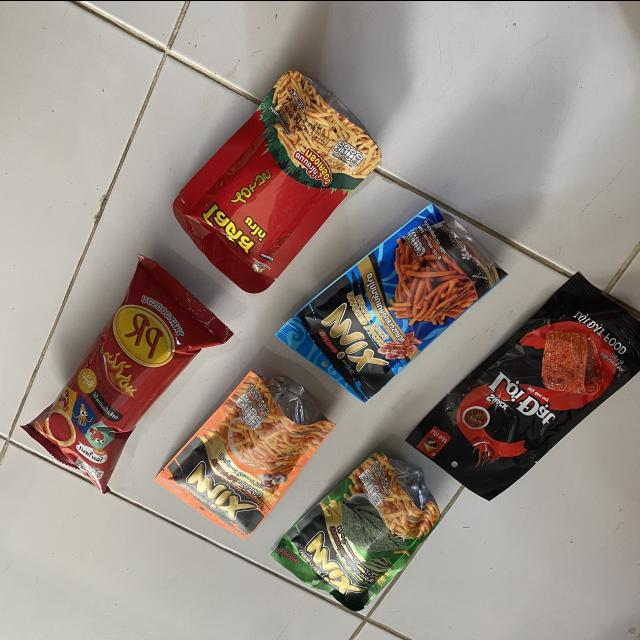plastik: (407, 273, 640, 498), (24, 255, 233, 492), (173, 70, 380, 292), (275, 204, 506, 400), (157, 371, 335, 536), (270, 449, 439, 611)
